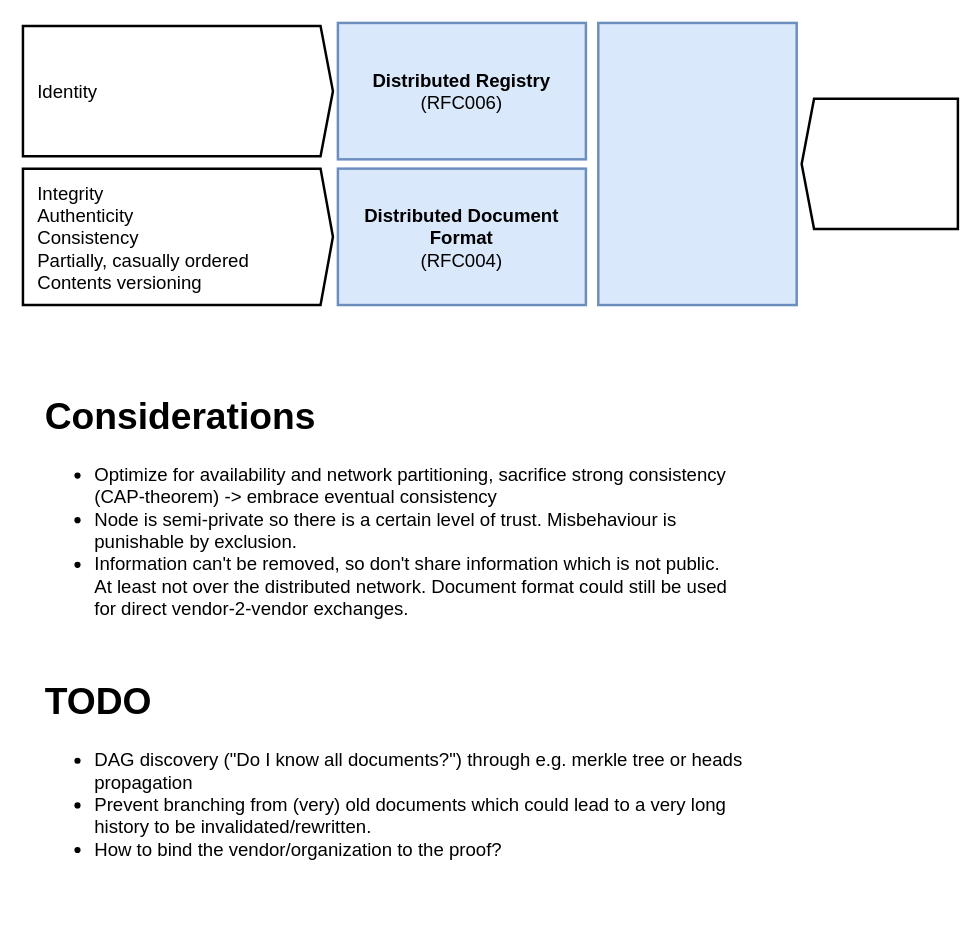
This 980x949 diagram has some shape labels left out. The shapes that lost their labels are listed below. From the top down, each one's centre as x and y in pixels, then its label:
point 696,163: Distributed Document Network using gRPC (RFC005)
point 879,163: Transport Node discovery
